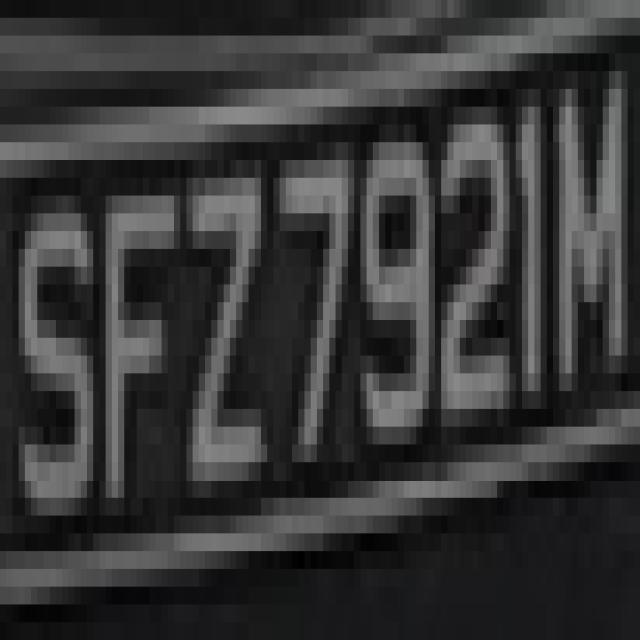1: (516, 36, 559, 462)
2: (428, 107, 516, 444)
7: (261, 124, 354, 498)
9: (342, 107, 435, 462)
F: (87, 160, 186, 551)
M: (553, 53, 628, 444)
S: (6, 125, 100, 551)
Z: (174, 124, 273, 516)
